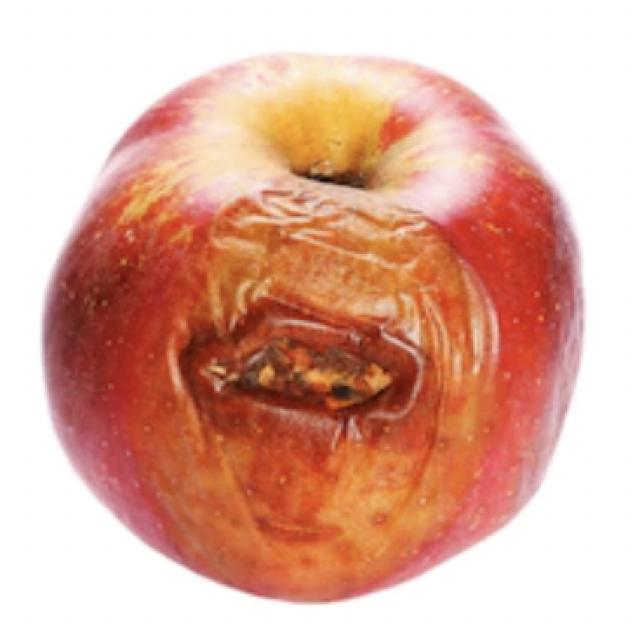rotten_apple: (43, 36, 583, 605)
